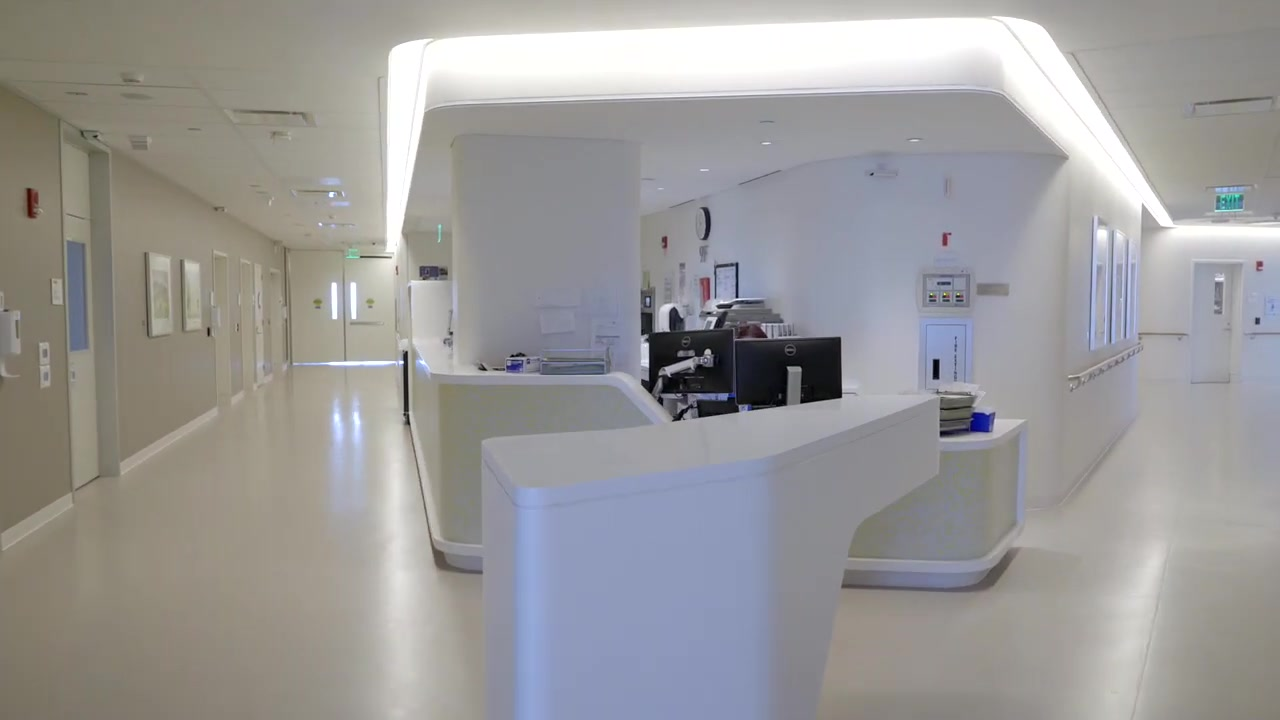computer: (735, 336, 843, 402), (646, 329, 732, 393)
counter: (403, 338, 1022, 590), (464, 400, 937, 720)
countertop: (467, 395, 939, 509), (411, 333, 644, 408), (940, 416, 1026, 450)
dispenser: (1, 301, 22, 379), (211, 303, 219, 328)
door_handle: (63, 360, 79, 389), (1221, 322, 1231, 334)
hallway_assist_bar: (1062, 342, 1147, 392), (1138, 331, 1192, 341), (1245, 330, 1280, 339)
push_latch: (349, 321, 385, 325)
